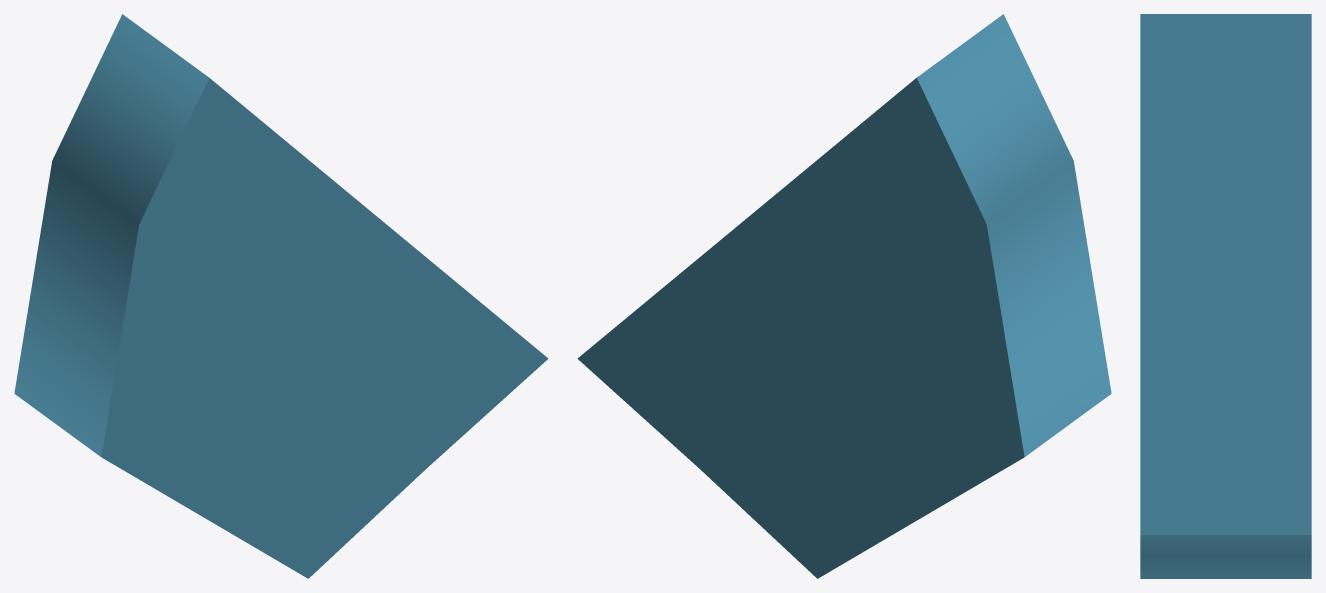
File: NexusA_Trigger_37.fbx
3 renders of one model, left to right at view 1: azimuth 30°, elevation 25°; view 2: azimuth 150°, elevation 25°; view 3: azimuth 270°, elevation 25°, orthographic.
Visible parts, largest first — view 1: pCube48; view 2: pCube48; view 3: pCube48.
Part boxes in pixels (x1=…): pCube48: x1=14, y1=14, x2=548, y2=578; pCube48: x1=577, y1=14, x2=1111, y2=578; pCube48: x1=1140, y1=14, x2=1311, y2=578.
Size of the model in its own units: 35.82 by 40.21 by 12.07.
